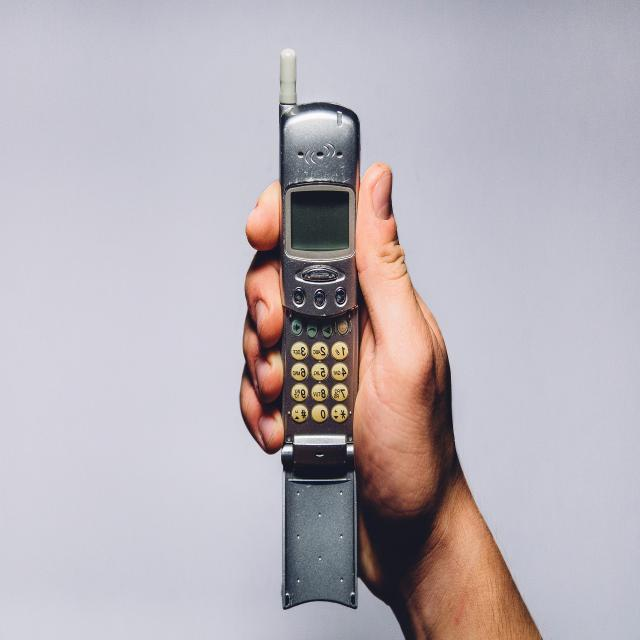Mobile: (227, 20, 375, 639)
